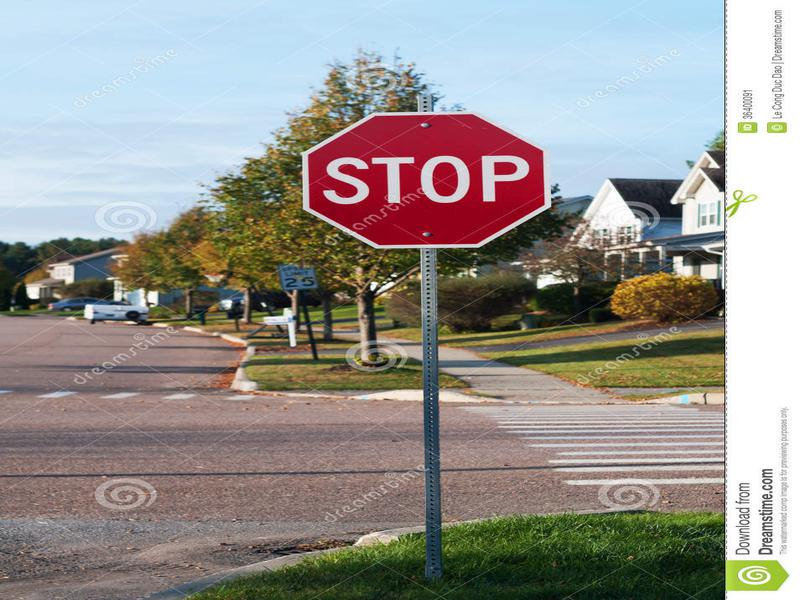stop: (296, 113, 558, 255)
